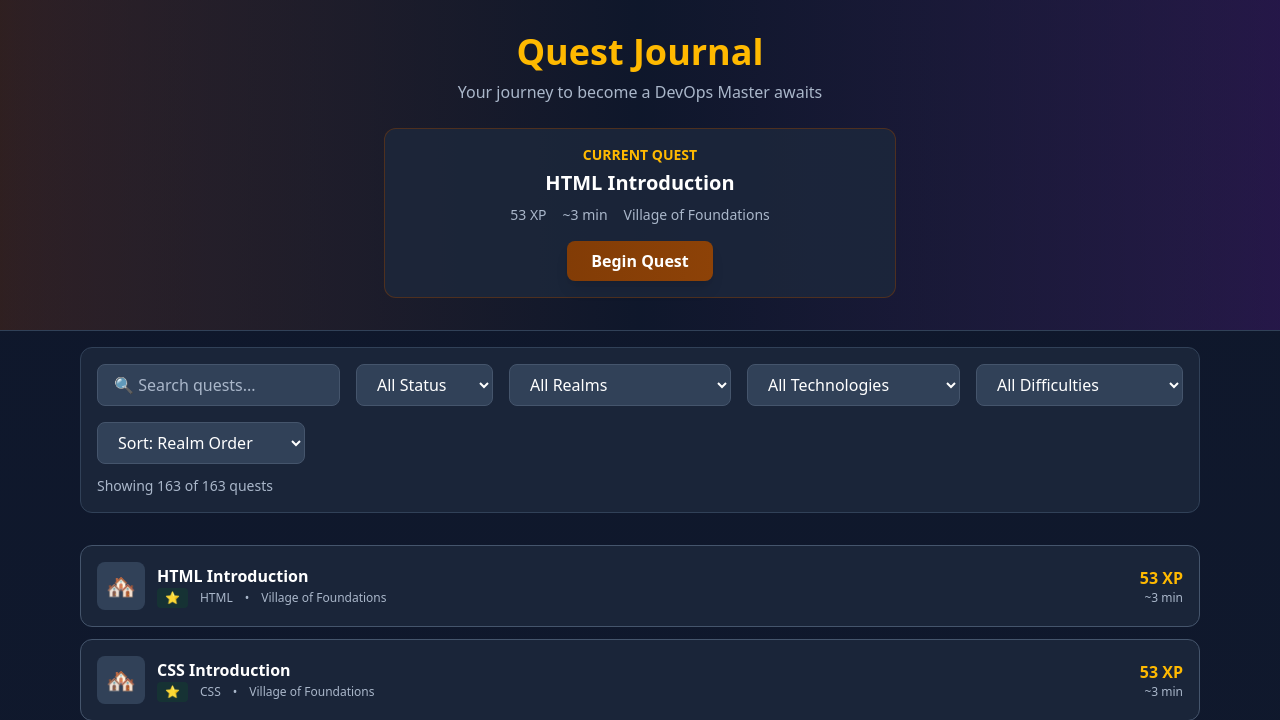
QuestJournalPage › offers a full reset from the empty state
Type "no such quest zzz" into the field with placeholder "🔍 Search quests..." at point(218, 385), box top-left (97, 364), bottom-right (340, 406)
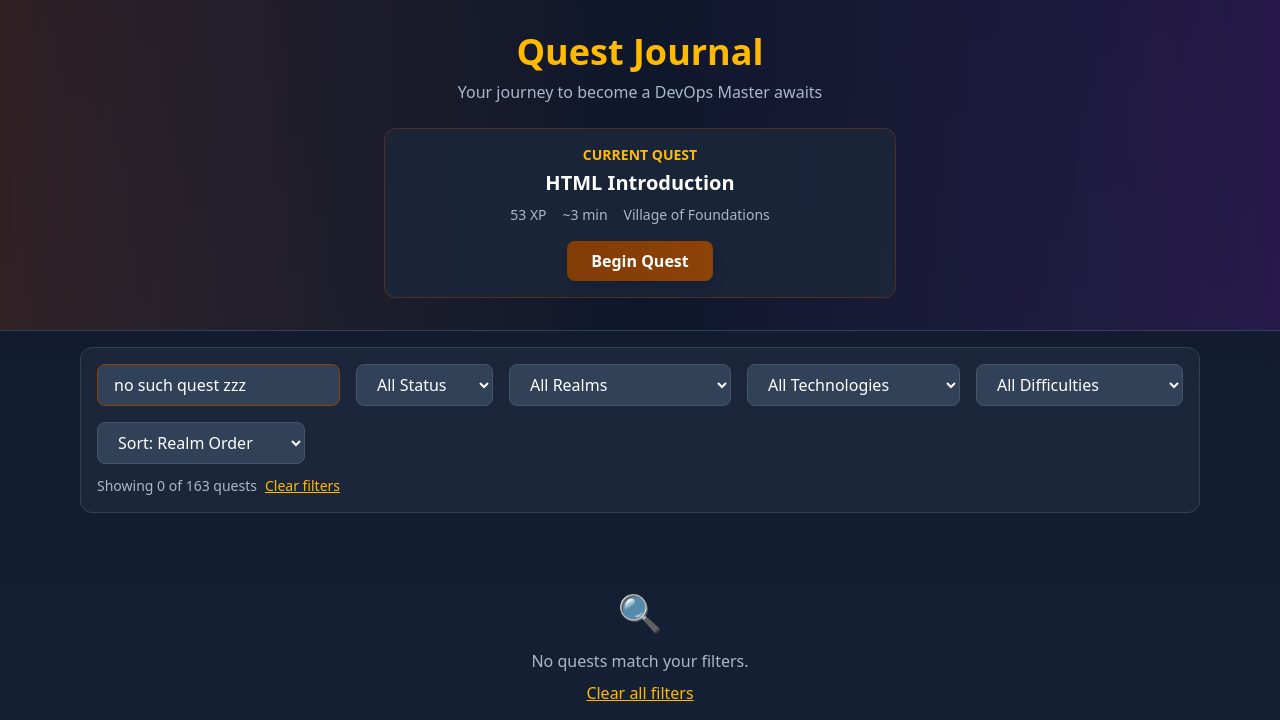
Now the text "No quests match your filters." is shown, box top-left (532, 650), bottom-right (749, 672)
Click the button "Clear all filters" at point(640, 693), box top-left (586, 681), bottom-right (694, 705)
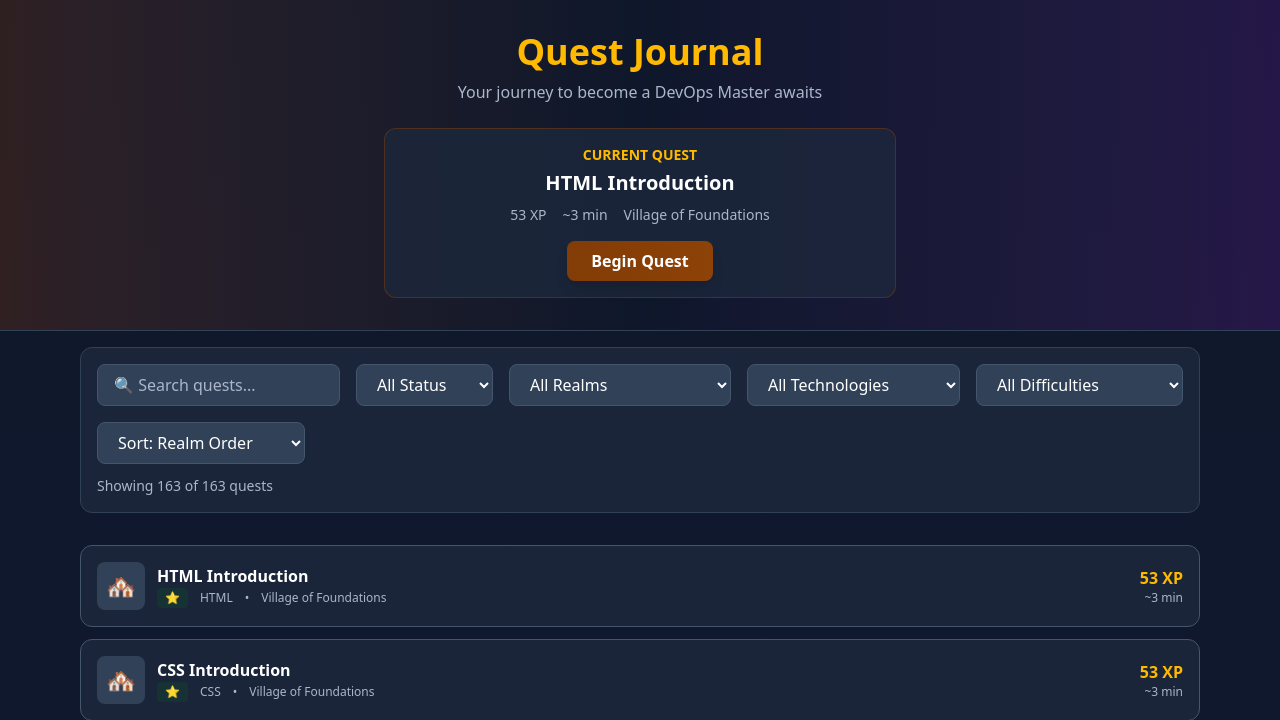
Now the text "No quests match your filters." is gone
